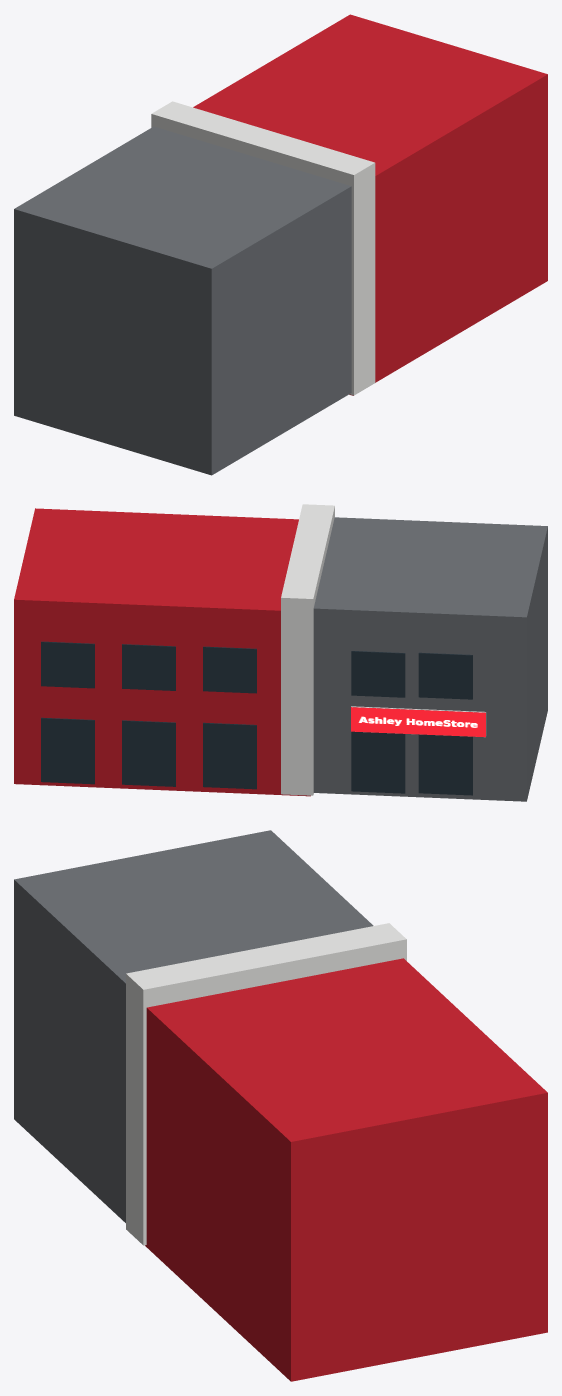
The model's file is ashley_facade.glb.
The picture shows the model from 3 angles, top to bottom: view 1: azimuth 30°, elevation 25°; view 2: azimuth 150°, elevation 25°; view 3: azimuth 270°, elevation 25°; orthographic projection. The views are drawn at different scales.
Visible parts, largest first — view 1: ashley_facade_lod0; view 2: ashley_facade_lod0; view 3: ashley_facade_lod0.
Boxes of the visible parts, x1,y1,x2,y2 form: ashley_facade_lod0: (14,14,547,475); ashley_facade_lod0: (14,504,547,801); ashley_facade_lod0: (14,830,547,1381).
Size of what is drawn, in the model's own units: 20.61 by 8.08 by 15.14.
8 materials, 1 textured.
